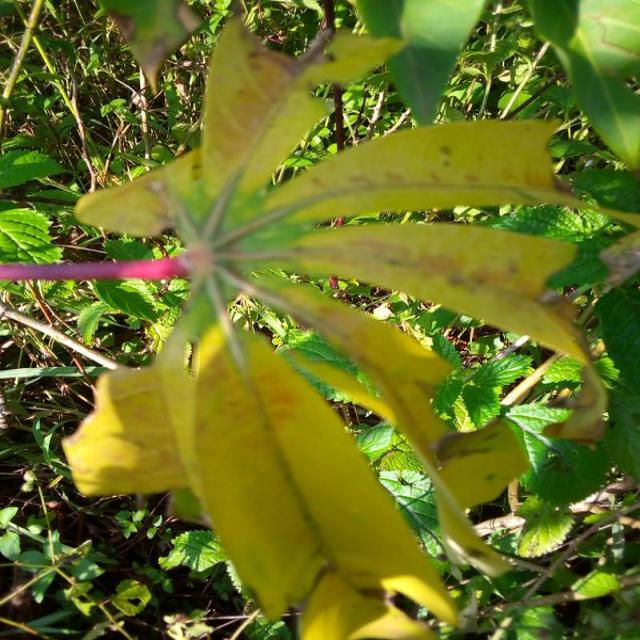cassava leaf: (45, 7, 612, 637)
